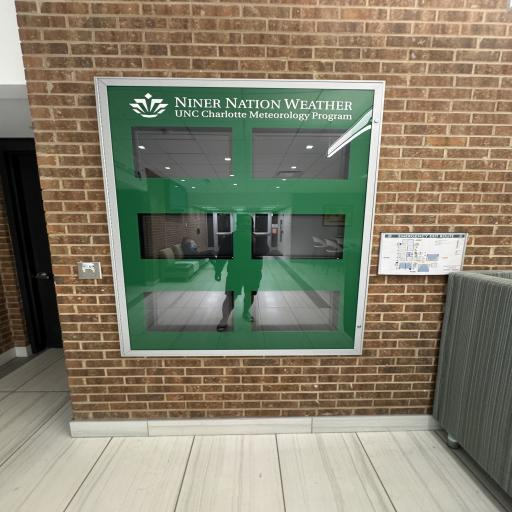floor layout map: (380, 229, 473, 276)
weather forecast monitor: (92, 73, 372, 356)
